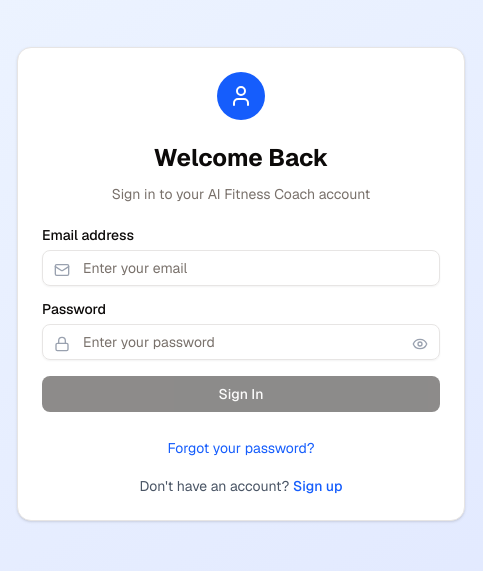
LoginPage › Login Functionality › handles login error
This screenshot has width=483, height=571.
// Fill in form
In the field labelled "Email address": (241, 268) left=42, top=250, right=440, bottom=286, type "test@example.com"
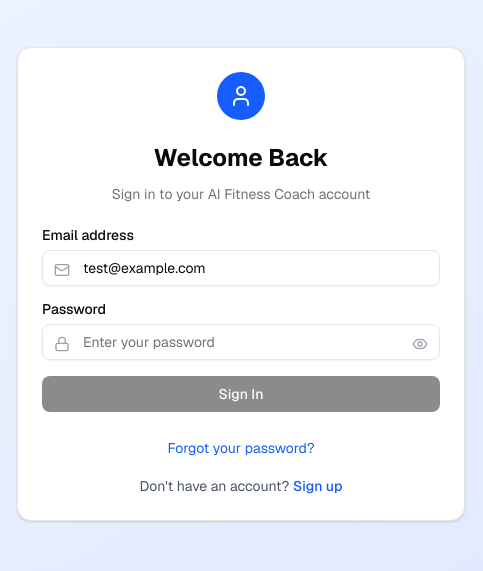
In the password field labelled "Password": (241, 342) left=42, top=324, right=440, bottom=360, type "wrongpassword"
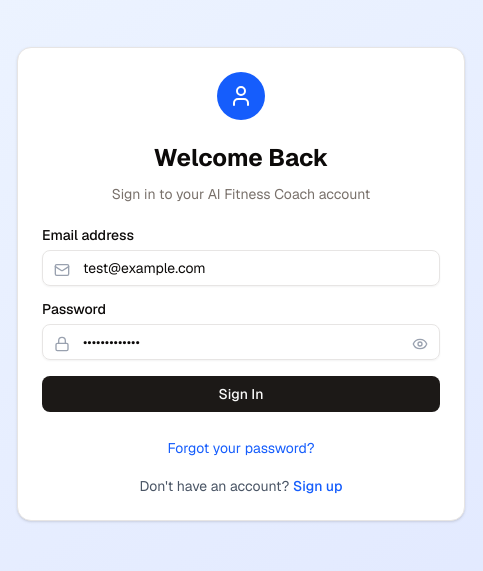
// Submit form
Click the button "Sign In": (241, 394) left=42, top=376, right=440, bottom=412
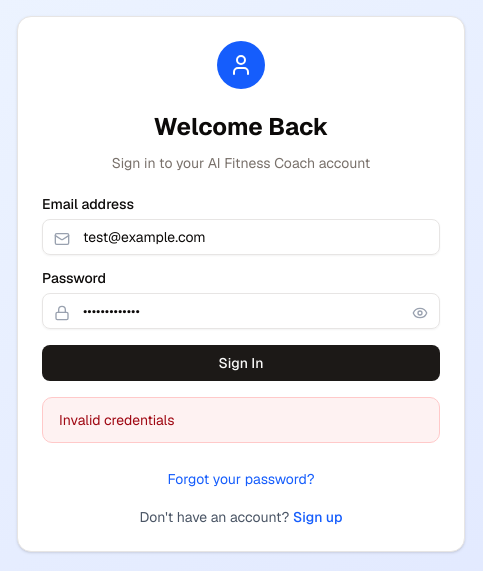
Expected: the text "Invalid credentials" is shown, left=59, top=411, right=174, bottom=429
